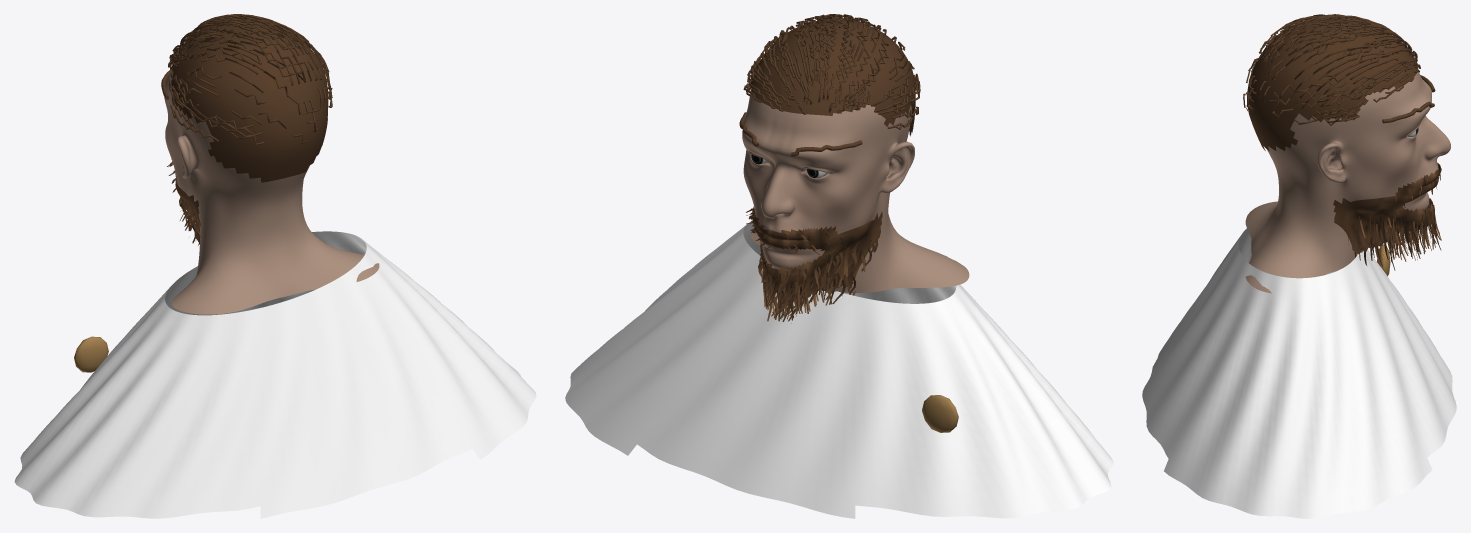
The model's file is envoy_037.glb.
3 views of the same model, side by side, from view 1: azimuth 30°, elevation 25°; view 2: azimuth 150°, elevation 25°; view 3: azimuth 270°, elevation 25° (orthographic). The views are drawn at different scales.
Visible parts, largest first — view 1: Folded shoulder mantle, Envoy 037 body, Envoy 037 fitted scalp, Shoulder clasp; view 2: Folded shoulder mantle, Envoy 037 body, Envoy 037 fitted scalp, Hades beard hair cards, Hades beard hair shell, Shoulder clasp; view 3: Folded shoulder mantle, Envoy 037 body, Envoy 037 fitted scalp, Hades beard hair shell, Hades beard hair cards.
Part boxes in pixels (x1=…): Folded shoulder mantle: x1=14, y1=231, x2=536, y2=518; Envoy 037 body: x1=164, y1=69, x2=379, y2=314; Envoy 037 fitted scalp: x1=171, y1=20, x2=328, y2=182; Shoulder clasp: x1=74, y1=336, x2=108, y2=372; Folded shoulder mantle: x1=565, y1=221, x2=1113, y2=518; Envoy 037 body: x1=742, y1=88, x2=969, y2=292; Envoy 037 fitted scalp: x1=750, y1=18, x2=915, y2=136; Hades beard hair cards: x1=746, y1=208, x2=878, y2=323; Hades beard hair shell: x1=752, y1=206, x2=882, y2=290; Shoulder clasp: x1=922, y1=395, x2=958, y2=432; Folded shoulder mantle: x1=1142, y1=228, x2=1456, y2=518; Envoy 037 body: x1=1245, y1=72, x2=1450, y2=293; Envoy 037 fitted scalp: x1=1247, y1=18, x2=1418, y2=150; Hades beard hair shell: x1=1333, y1=162, x2=1441, y2=253; Hades beard hair cards: x1=1348, y1=174, x2=1441, y2=270.
Size of the model in its own units: 0.3152 by 0.2464 by 0.1831.
